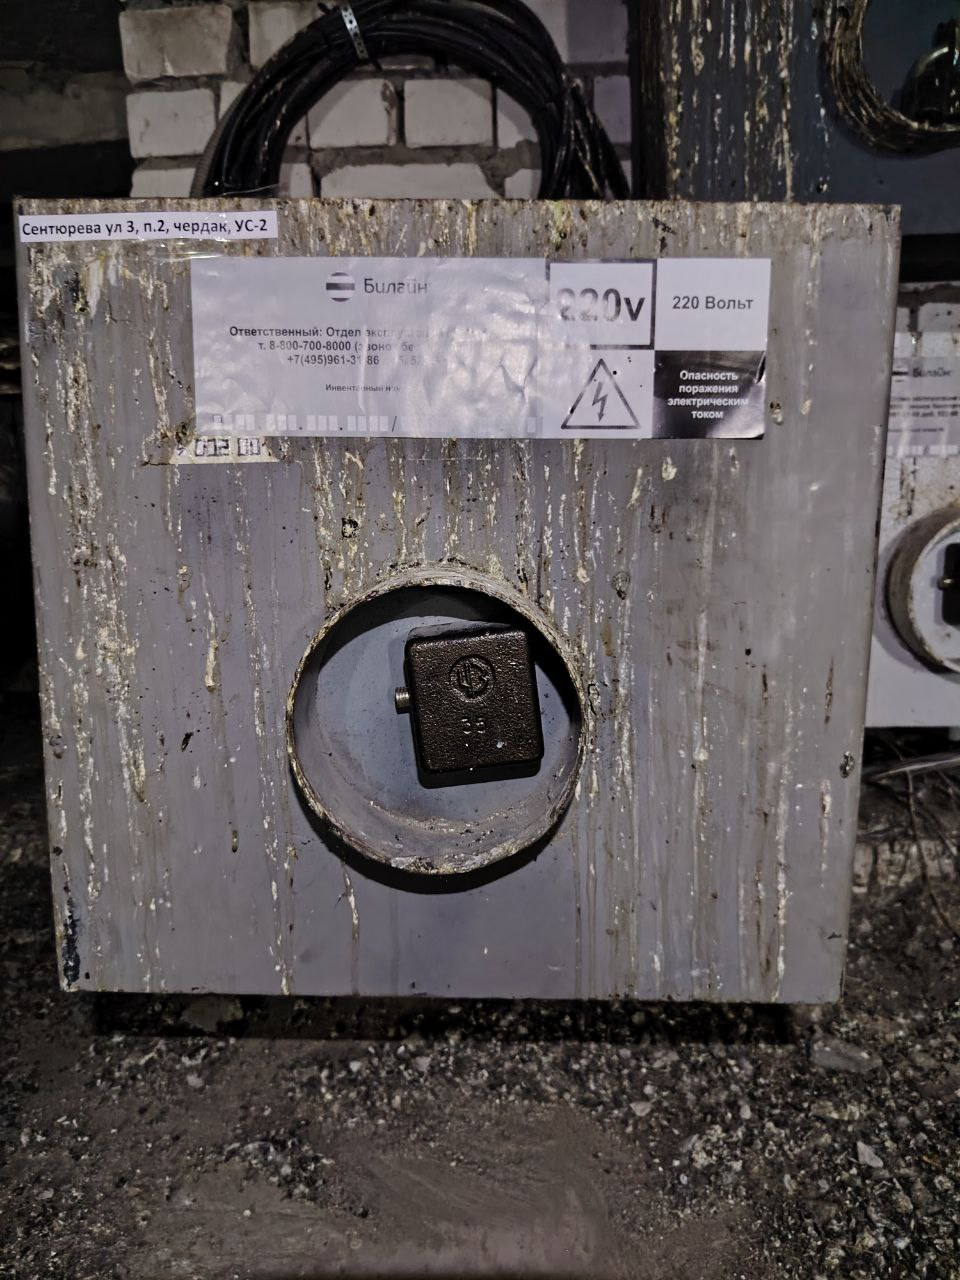shta-9: (12, 186, 909, 1010)
